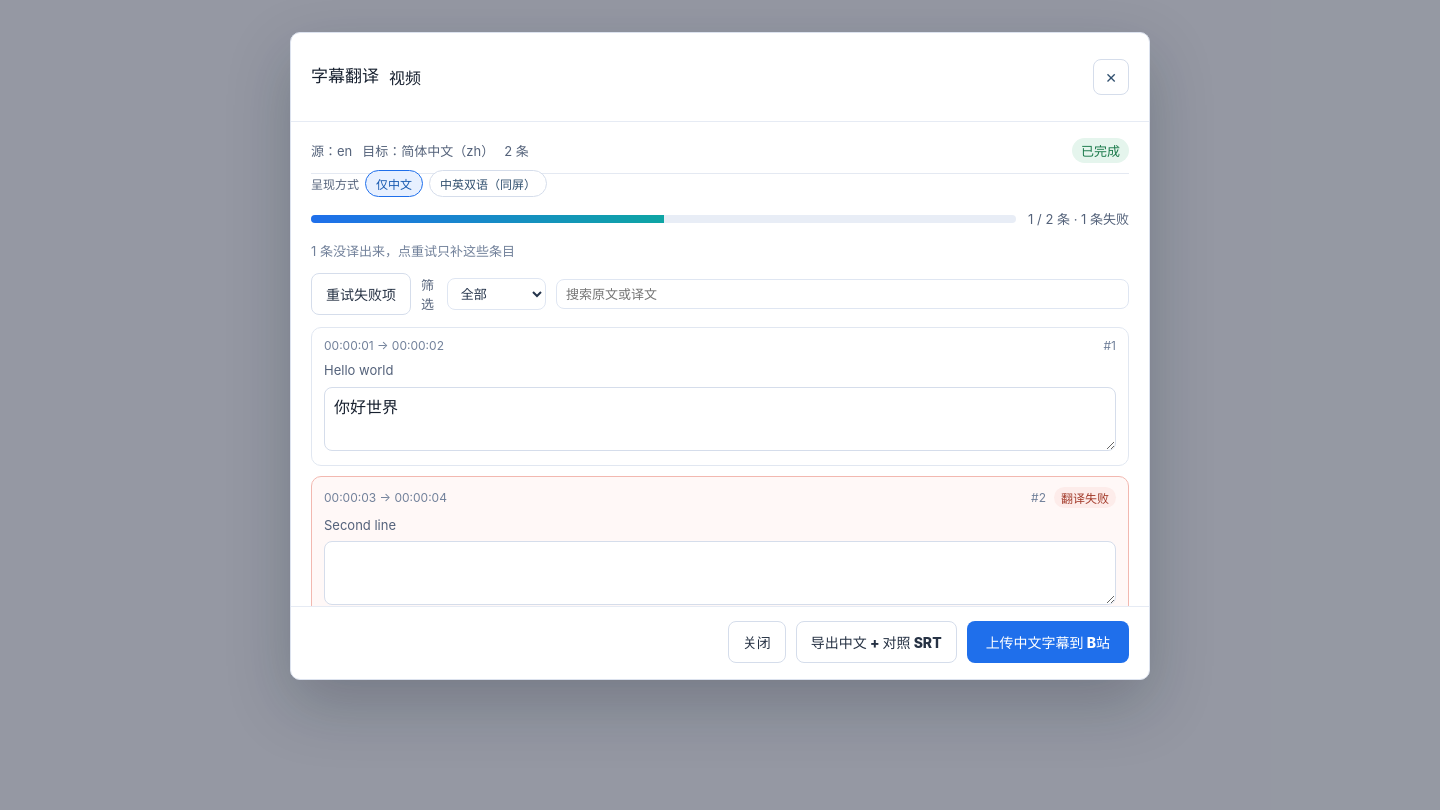
it: 字幕翻译抽屉 › 筛选只显示失败项，空白译文确实没有拿原文顶上
The image size is (1440, 810).
Expected: the heading "字幕翻译" is shown, top-left (311, 66), bottom-right (379, 88)
Select "仅看失败" in the dropdown at point(496, 294), box top-left (447, 278), bottom-right (546, 310)
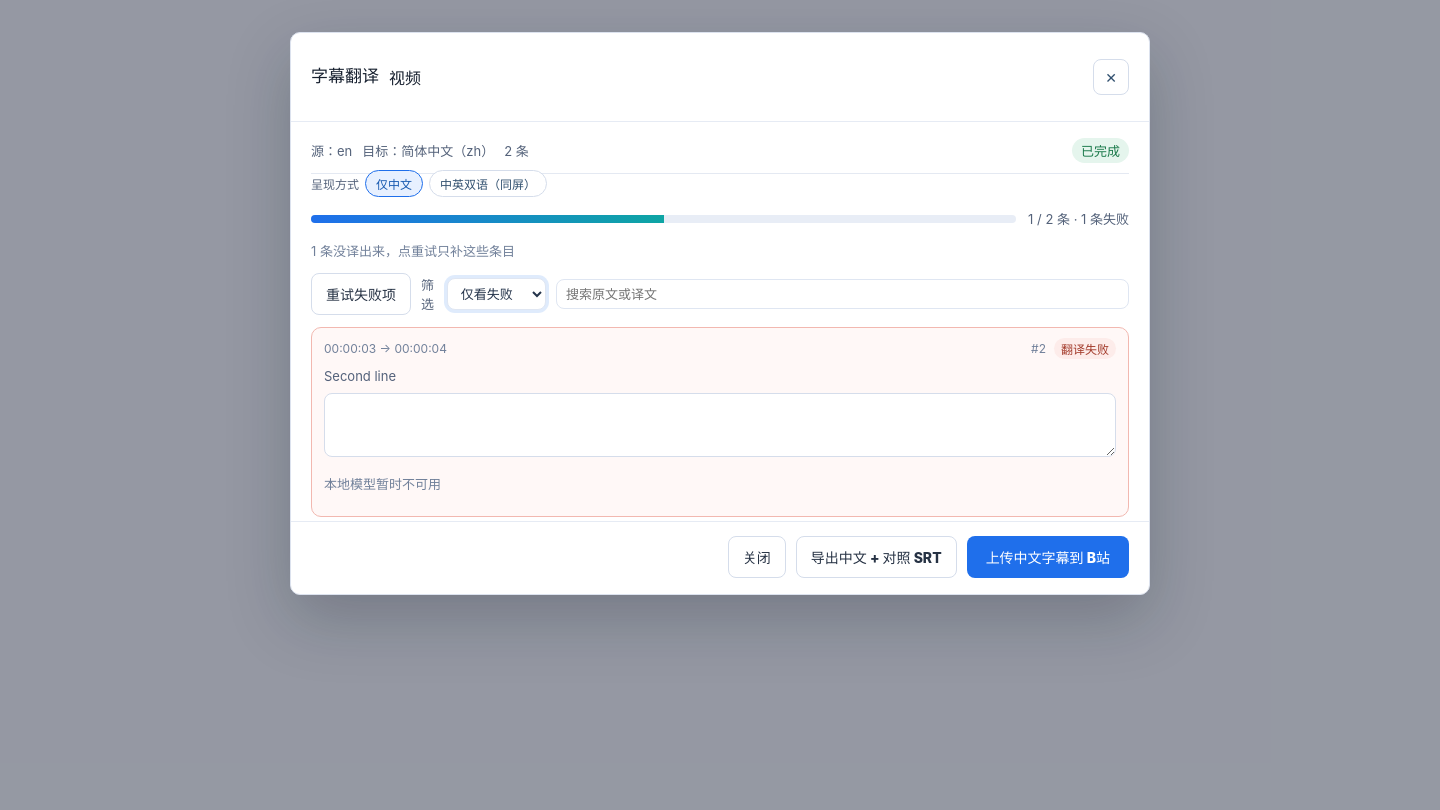
Expected: the text "Second line" is shown, top-left (324, 368), bottom-right (396, 384)
Result: the text "Hello world" is gone
